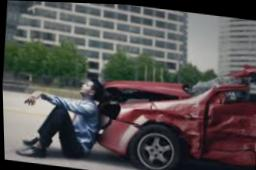Bonnet: (104, 82, 186, 99)
Bumper: (93, 117, 137, 156)
Door: (203, 72, 256, 160)
Fender: (117, 94, 207, 156)
Light: (98, 99, 118, 117)
Windshield: (188, 72, 244, 93)
